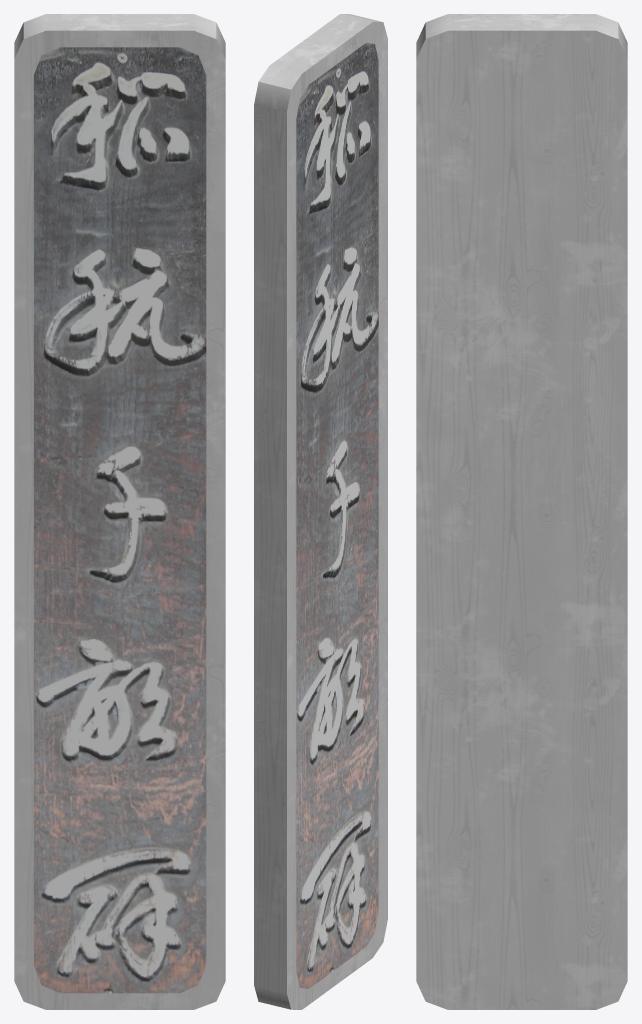
The model's file is SM_R_Yuyotaek5.fbx.
The picture shows the model from 3 angles, left to right: view 1: azimuth 90°, elevation 25°; view 2: azimuth 150°, elevation 25°; view 3: azimuth 270°, elevation 25°; orthographic projection. The views are drawn at different scales.
Visible parts, largest first — view 1: SM_R_Yuyotaek5; view 2: SM_R_Yuyotaek5; view 3: SM_R_Yuyotaek5.
Part boxes in pixels (x1,y1,x2,y2): SM_R_Yuyotaek5: [14, 14, 225, 1009]; SM_R_Yuyotaek5: [254, 14, 387, 1009]; SM_R_Yuyotaek5: [416, 14, 627, 1009].
Size of the model in its own units: 3.97 by 21.22 by 108.
Materials: 1 (1 with a texture image).
